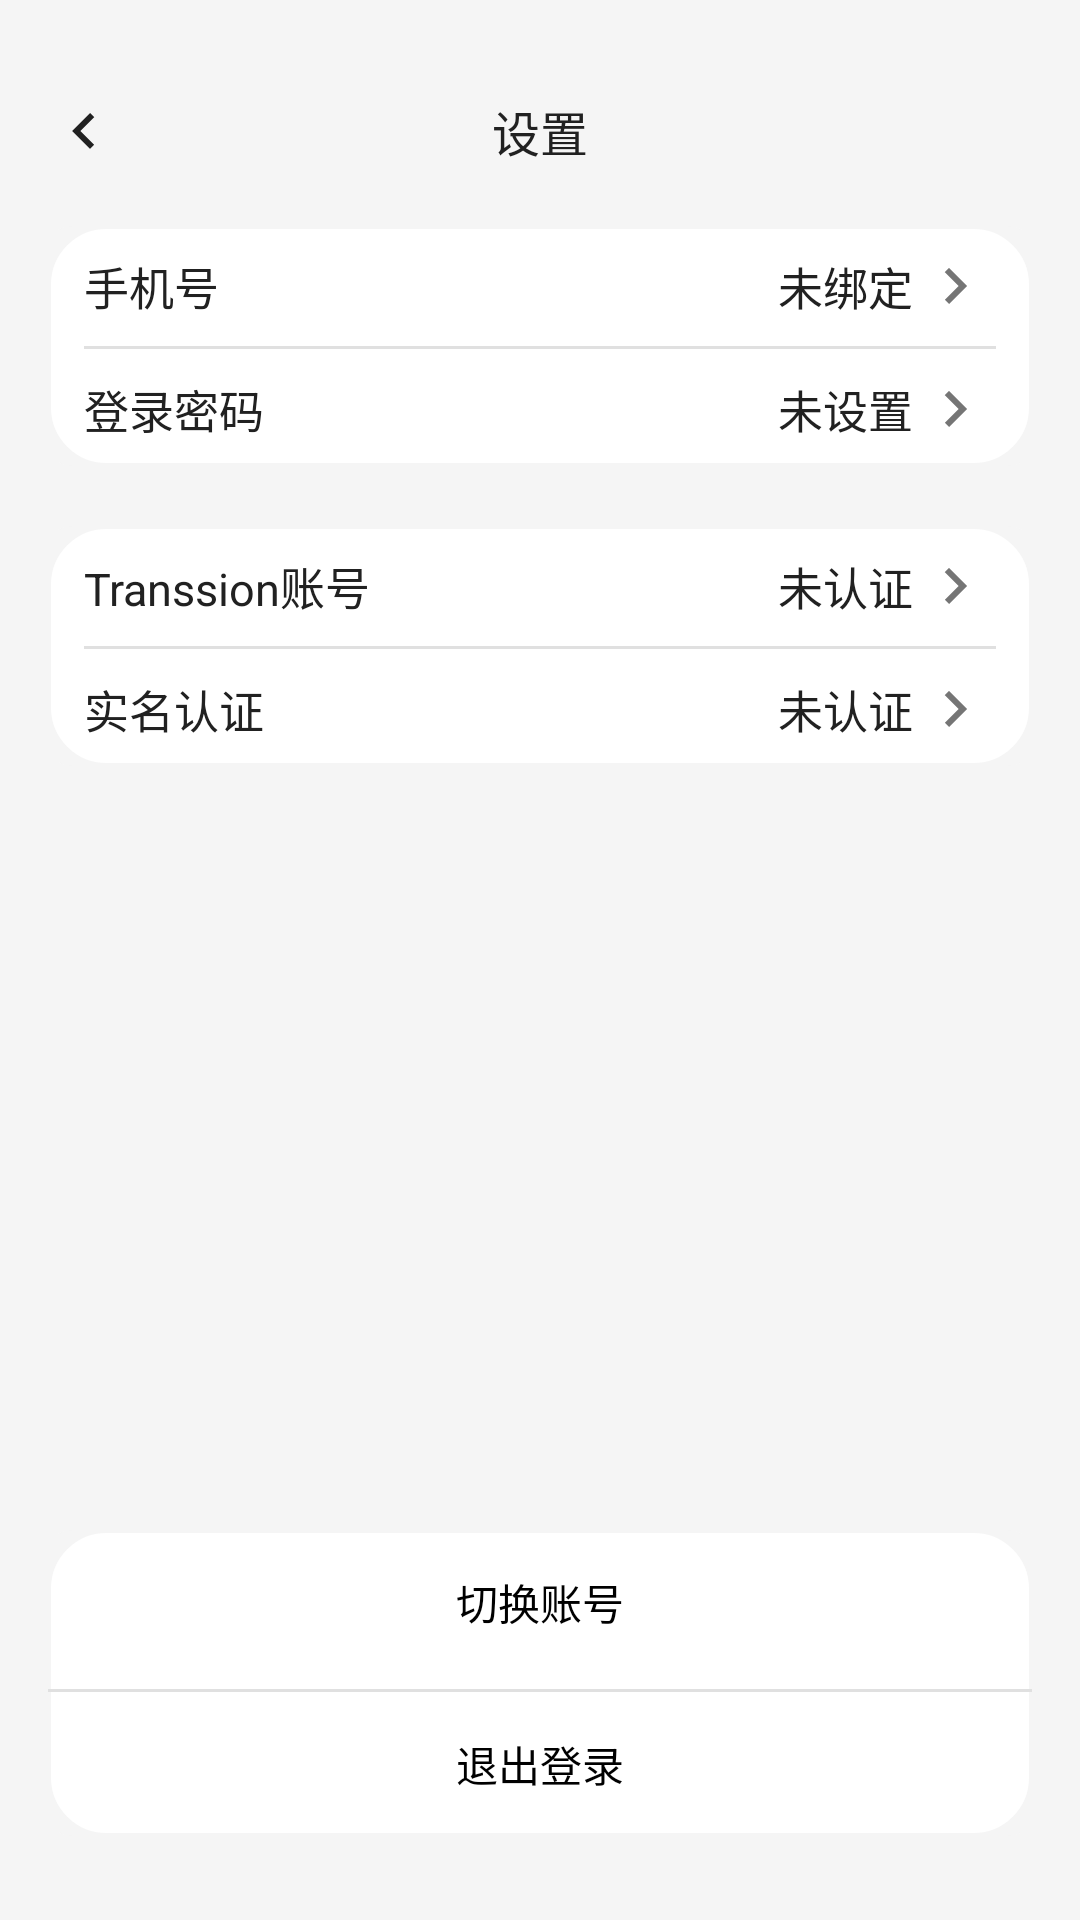

Icons on this 1080px x 1920px Android screen, each with its box as (x1, y1, x2, y2):
arrow left: (72, 113, 94, 149)
arrow right: (945, 268, 967, 304), (945, 391, 967, 427), (945, 568, 967, 604), (945, 691, 967, 727)
